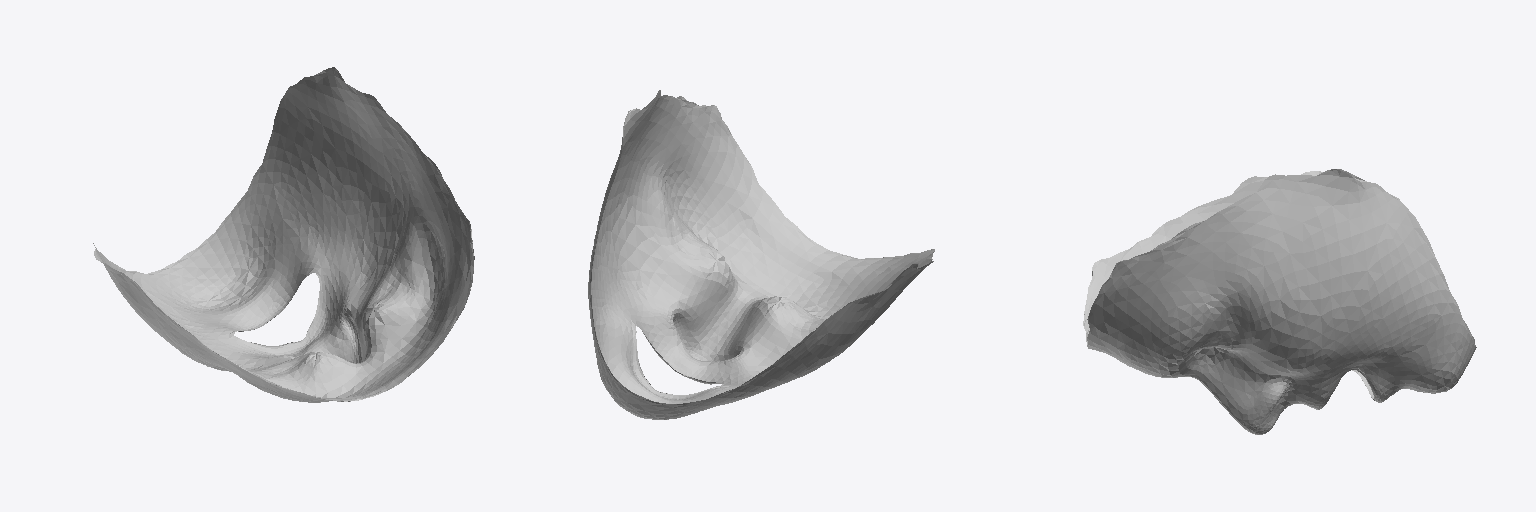
The model's file is face_gab_sfm52.obj.
The picture shows the model from 3 angles: view 1: azimuth 30°, elevation 25°; view 2: azimuth 150°, elevation 25°; view 3: azimuth 270°, elevation 25°; orthographic projection.
Bounding box in the file's own units: 166 × 159 × 202.